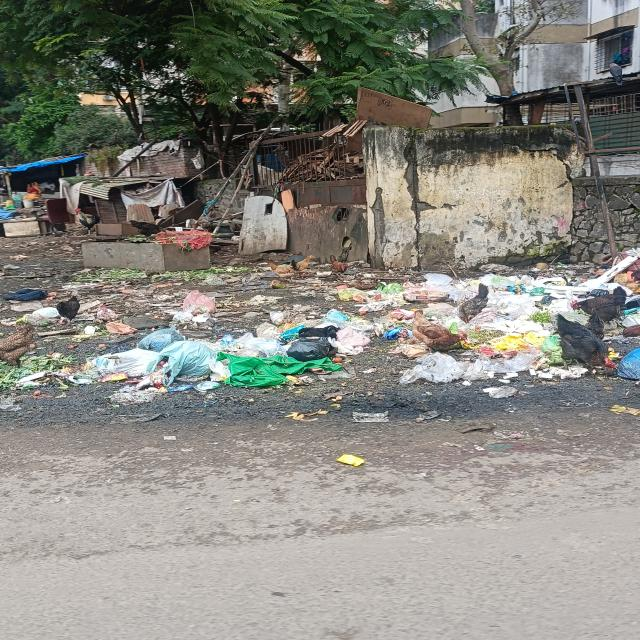garbage: (375, 273, 640, 394), (81, 313, 370, 386), (70, 264, 250, 316), (1, 351, 78, 399)
